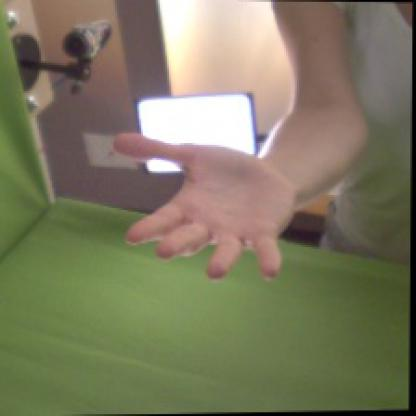Hand: (114, 132, 284, 276)
